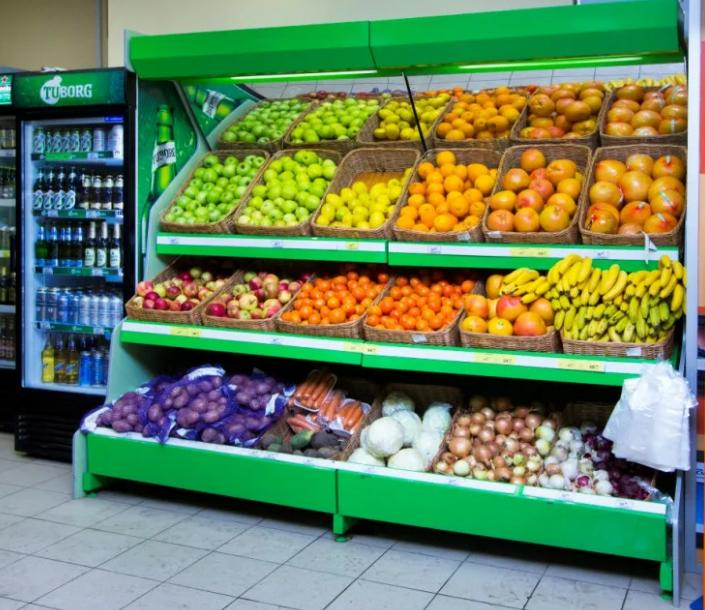banana: (544, 256, 686, 348)
carrot: (282, 374, 374, 434)
green apple: (166, 147, 261, 225), (238, 151, 334, 228)
lemon: (318, 174, 409, 234)
mandarin: (281, 271, 386, 329), (367, 278, 472, 336)
onion: (434, 400, 556, 484), (544, 425, 640, 497)
orange: (403, 152, 498, 237)
potato: (132, 372, 281, 445)
red apple: (206, 270, 292, 318), (138, 270, 224, 312)
